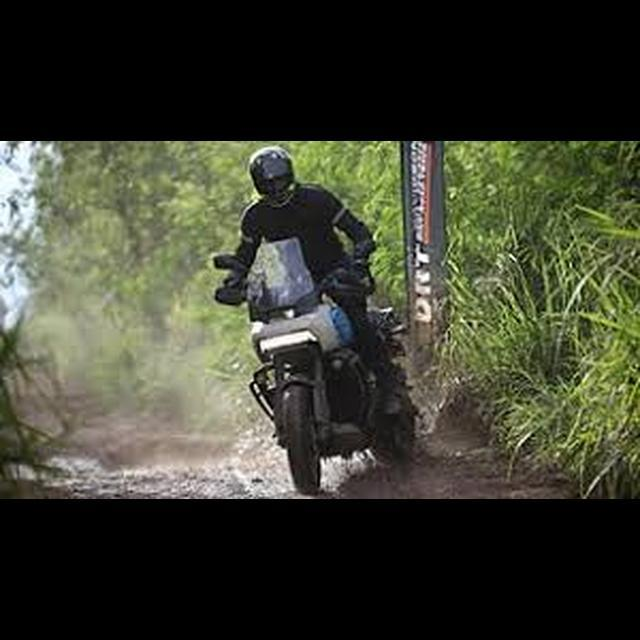motorcycle: (211, 195, 421, 499)
